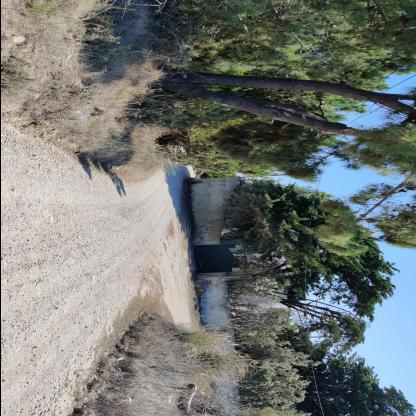plastik: (74, 111, 88, 120)
